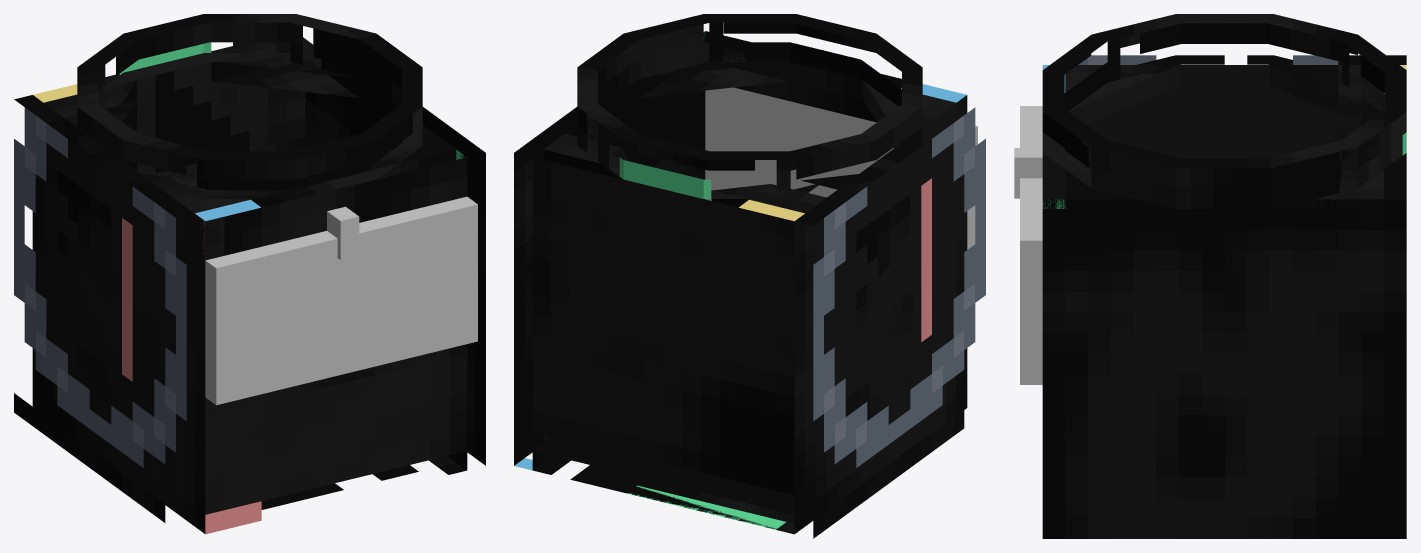
File: steam_firebox_closed.gltf
3 renders of one model, left to right at view 1: azimuth 30°, elevation 25°; view 2: azimuth 150°, elevation 25°; view 3: azimuth 270°, elevation 25°, orthographic. The views are drawn at different scales.
Parts seen in each view (by area): view 1: firebox, left_door (×2), door_hinge; view 2: firebox, left_door (×2); view 3: firebox, left_door (×2), door_hinge.
Part boxes in pixels (x1=…): firebox: x1=14, y1=14, x2=485, y2=534; left_door (×2): x1=205, y1=196, x2=477, y2=405; door_hinge: x1=327, y1=206, x2=359, y2=260; firebox: x1=514, y1=14, x2=985, y2=538; left_door (×2): x1=705, y1=87, x2=977, y2=249; firebox: x1=1042, y1=14, x2=1406, y2=538; left_door (×2): x1=1020, y1=106, x2=1042, y2=384; door_hinge: x1=1014, y1=148, x2=1042, y2=198.
Size of the model in its own units: 10 by 11.25 by 10.78.
